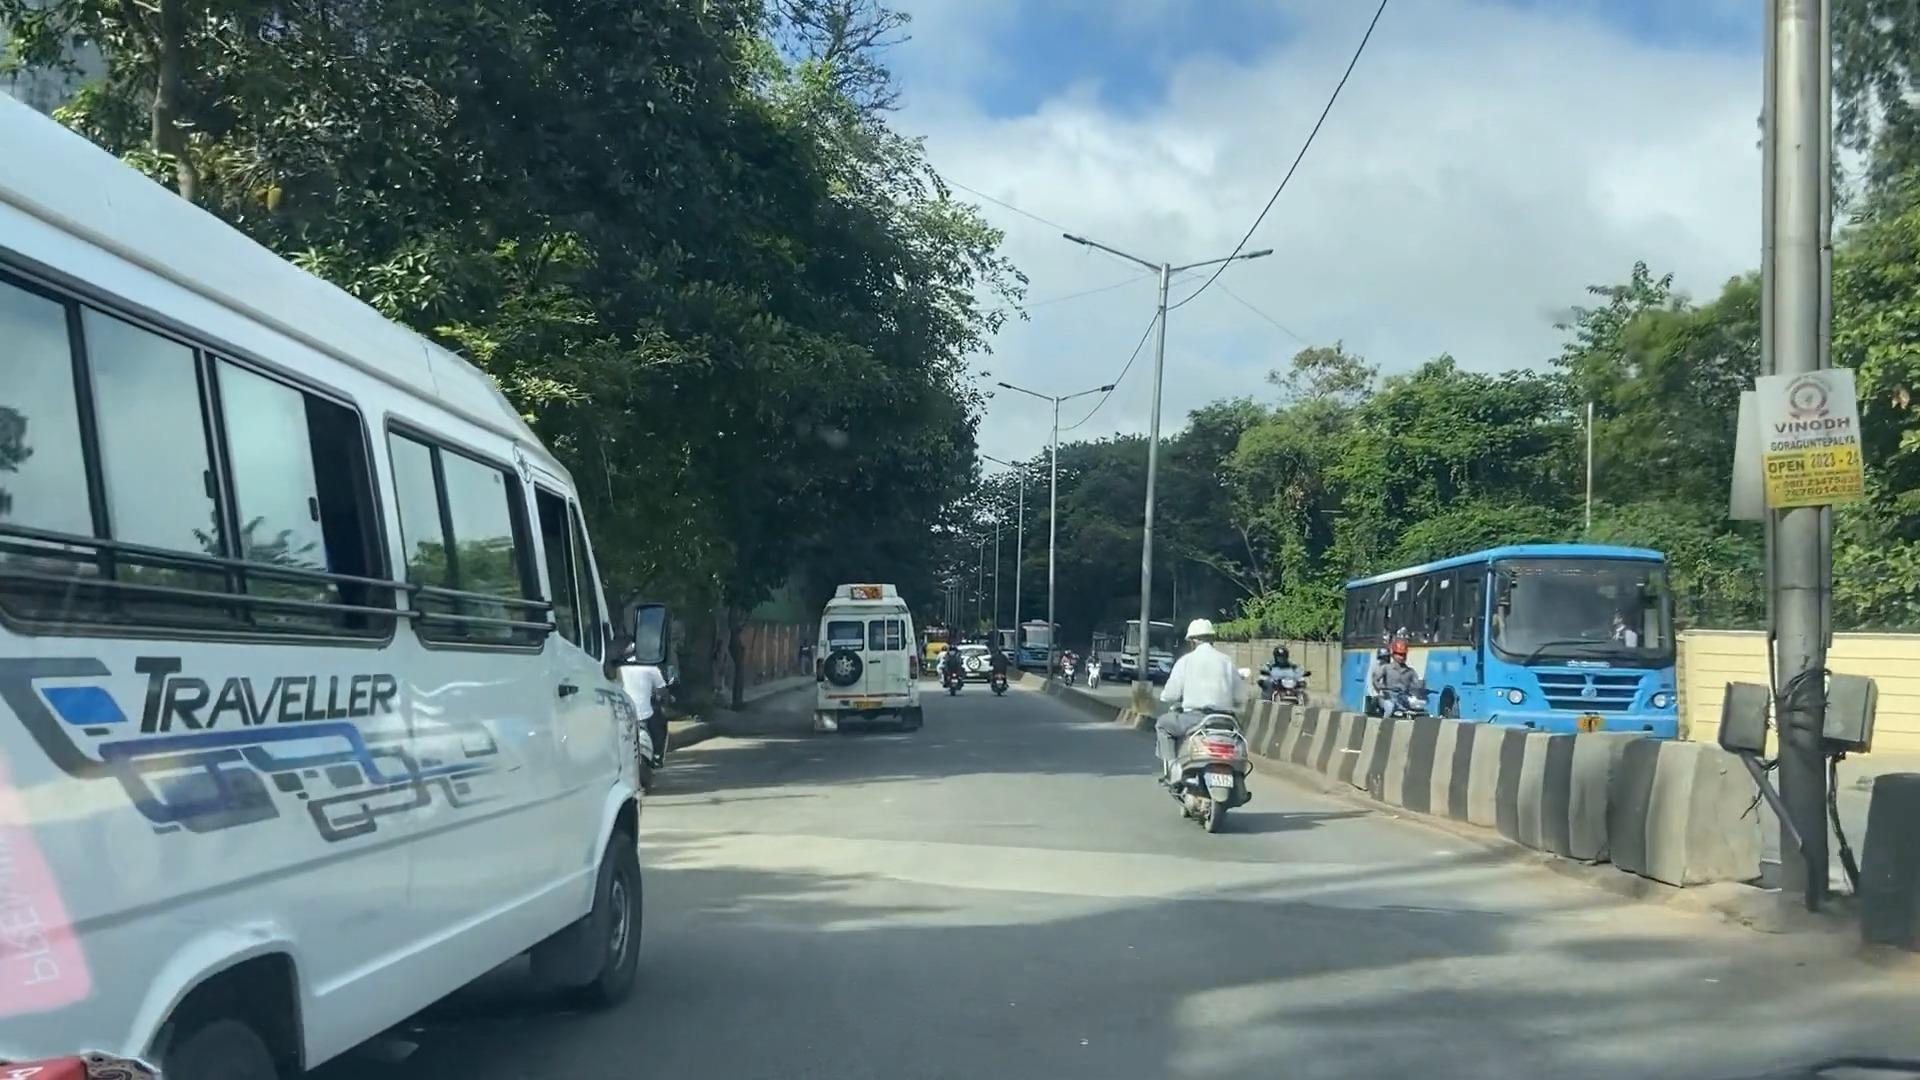HMV: (0, 98, 651, 1072), (820, 578, 938, 735)
LMV: (1163, 638, 1261, 835)
